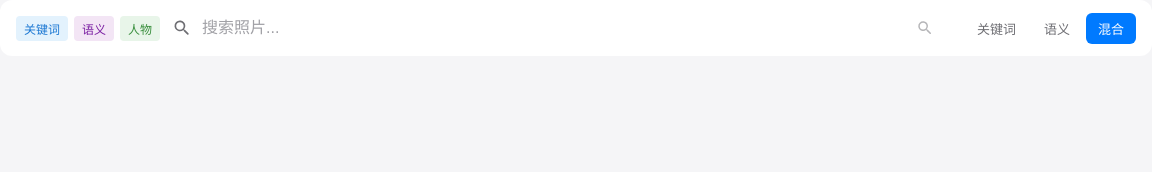
Test: SearchBar Component - Epic E-05 › E-05.1: 搜索界面优化 - Additional Tests › should show section title for suggestions (AC: 显示搜索建议)
Focus the field with class "search-input" at x=550, y=28, box [200,18,901,38]
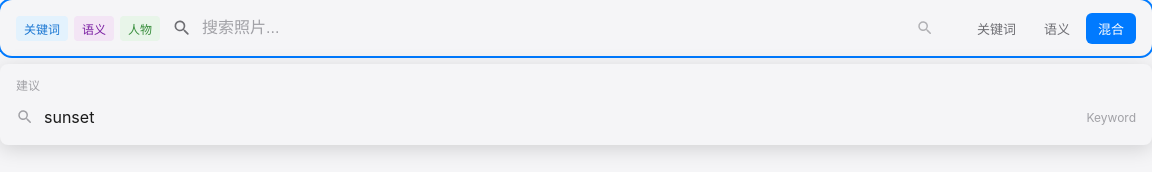
expect the text "建议" is shown: met, box [16,78,40,93]
